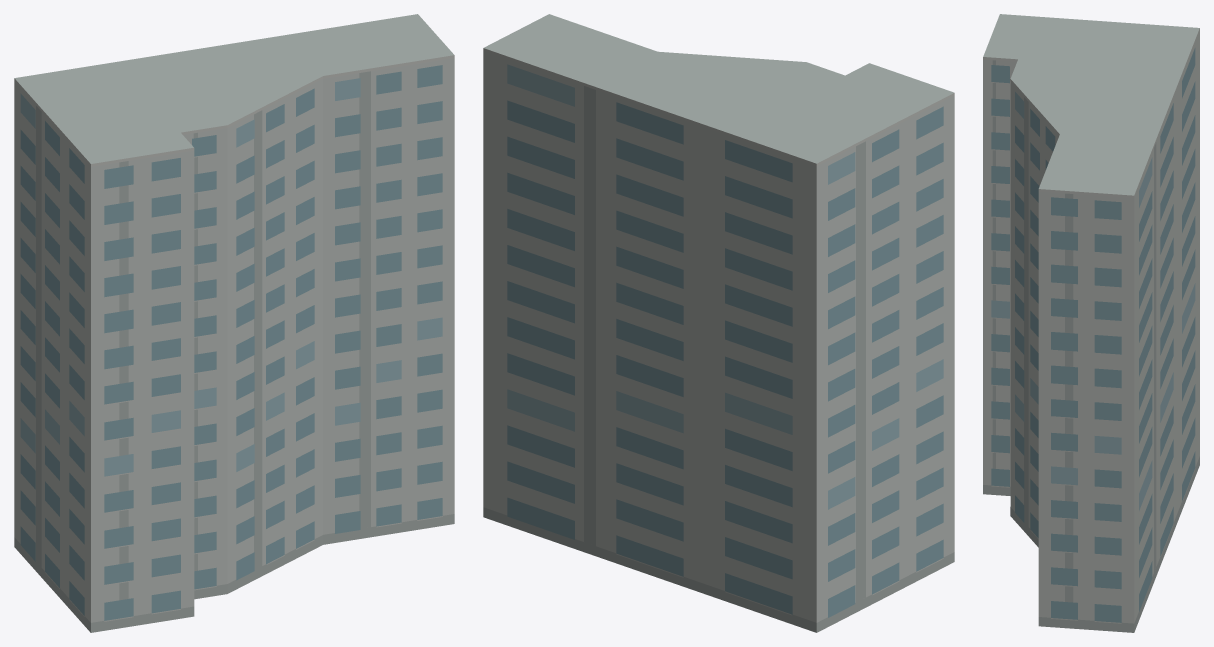
File: residential-e0bdee56-4ed3-418d-969f-ad2dba2004e9.glb
3 renders of one model, left to right at view 1: azimuth 30°, elevation 25°; view 2: azimuth 150°, elevation 25°; view 3: azimuth 270°, elevation 25°, orthographic. The views are drawn at different scales.
Parts seen in each view (by area): view 1: residential-e0bdee56-4ed3-418d-969f-ad2dba2004e9.tmp; view 2: residential-e0bdee56-4ed3-418d-969f-ad2dba2004e9.tmp; view 3: residential-e0bdee56-4ed3-418d-969f-ad2dba2004e9.tmp.
Boxes of the visible parts, x1,y1,x2,y2 form: residential-e0bdee56-4ed3-418d-969f-ad2dba2004e9.tmp: [14, 14, 454, 632]; residential-e0bdee56-4ed3-418d-969f-ad2dba2004e9.tmp: [483, 14, 954, 632]; residential-e0bdee56-4ed3-418d-969f-ad2dba2004e9.tmp: [983, 14, 1199, 632].
Bounding box in the file's own units: 35.64 × 40 × 17.98.
